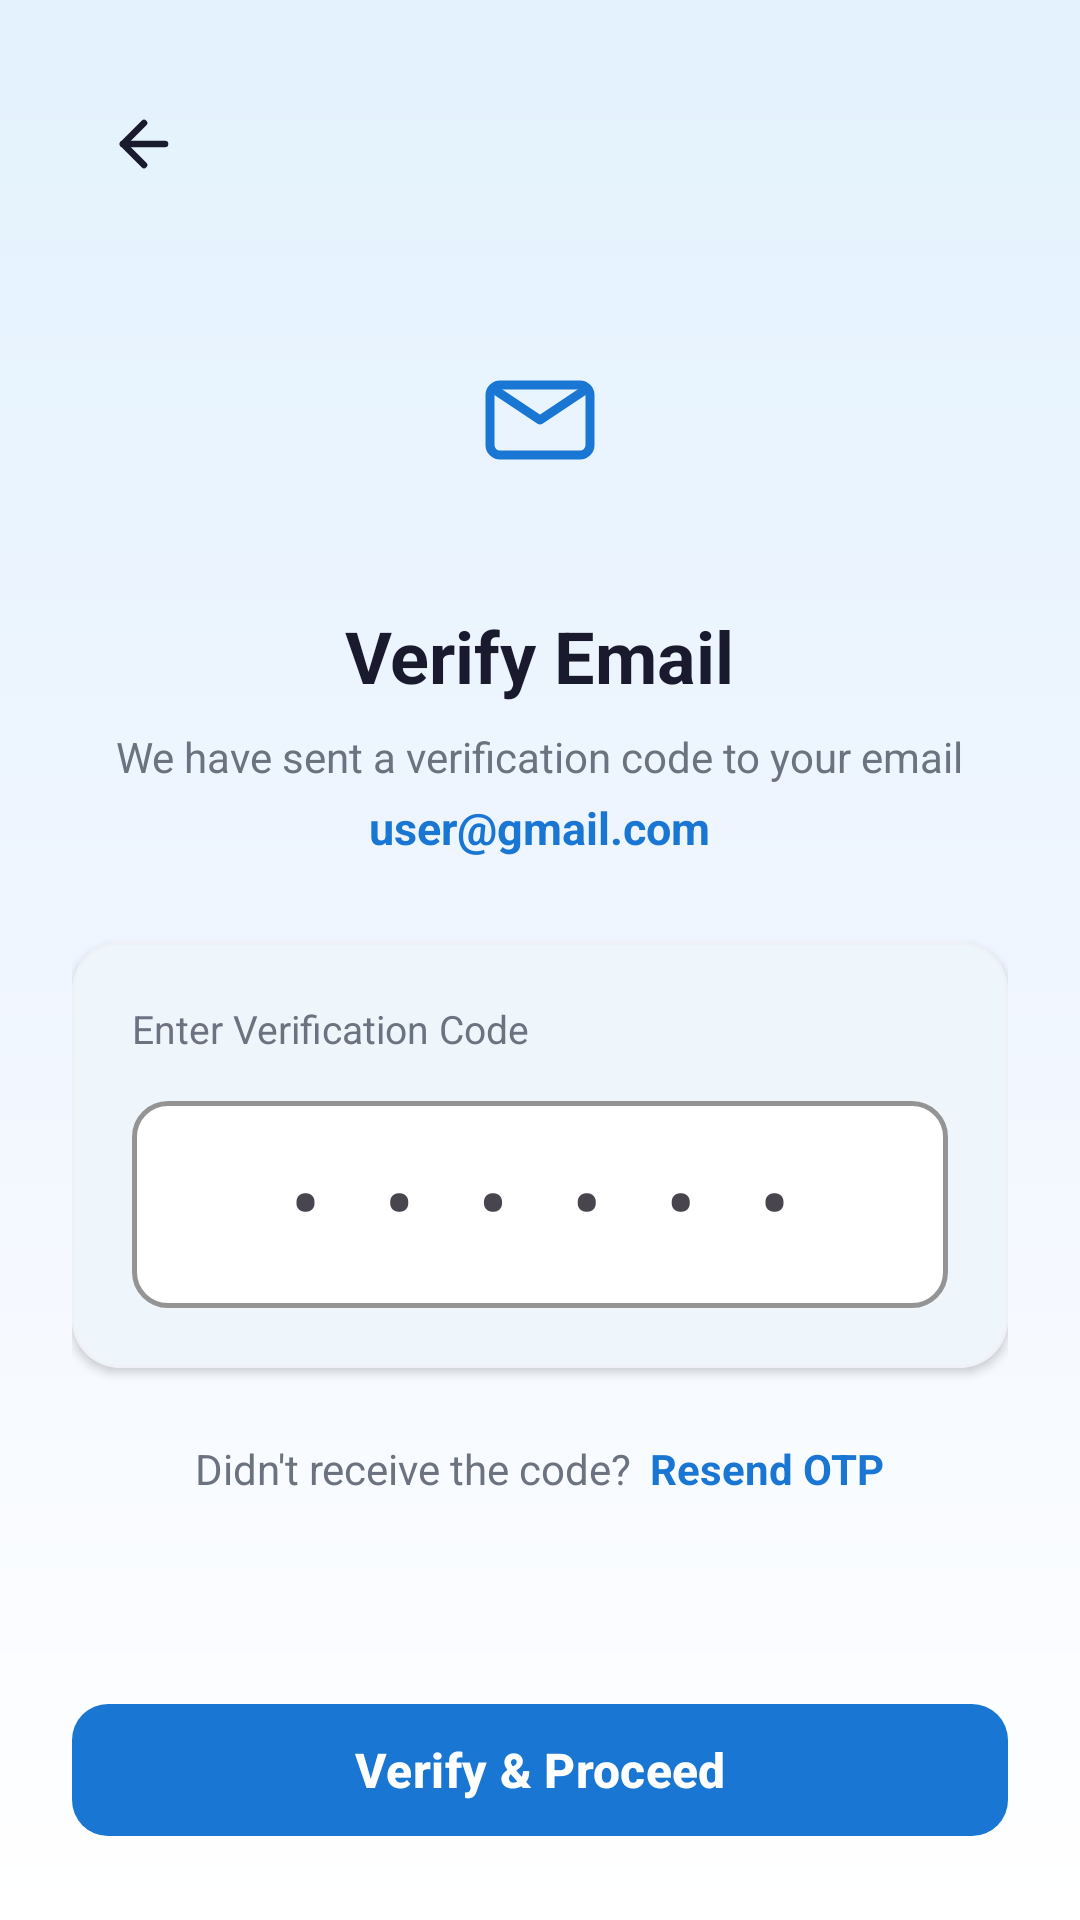

Where icons sit on this 1080px x 1920px app screen, as (x1, y1, x2, y2):
Email Verification: (485, 380, 595, 460)
